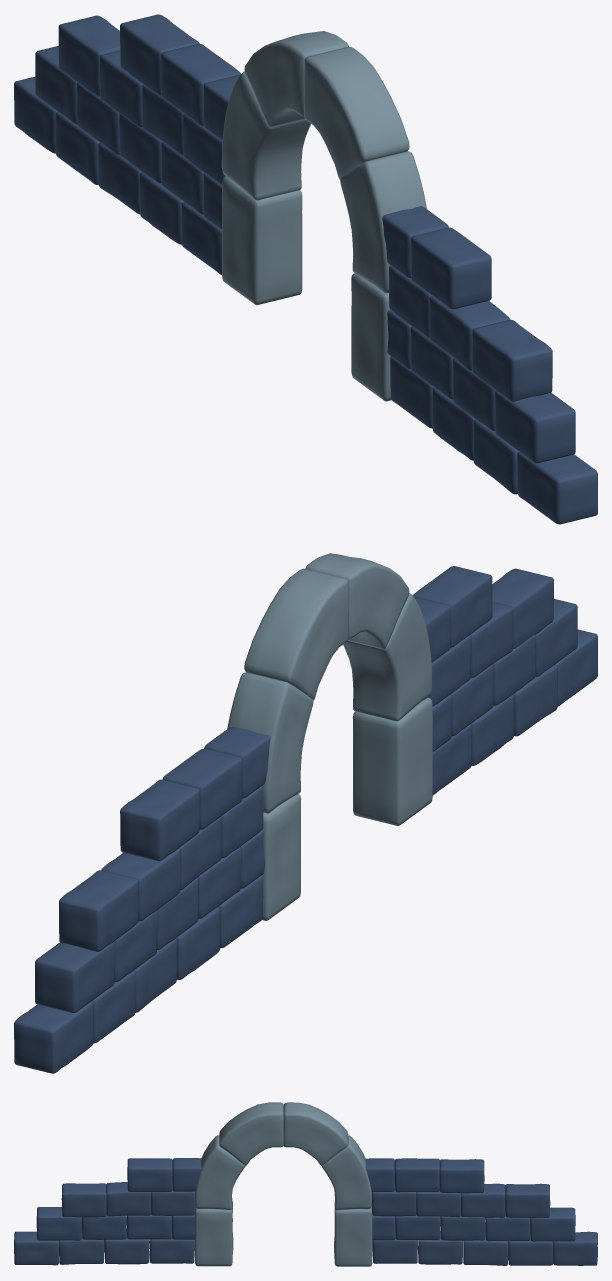
File: arc-1.obj
3 views of the same model, one above another, from view 1: azimuth 30°, elevation 25°; view 2: azimuth 150°, elevation 25°; view 3: azimuth 270°, elevation 25° (orthographic). The views are drawn at different scales.
Parts seen in each view (by area): view 1: Cube.007, Cube.010, Cube.009, Cube.006, Cube.018, Cube.017, Cube.008, Cube.016, Cube.015, Cube.005, Cube.031, Cube.032 (+24 smaller); view 2: Cube.008, Cube.005, Cube.006, Cube.009, Cube.032, Cube.007, Cube.035, Cube.034, Cube.033, Cube.010, Cube.031, Cube.018 (+24 smaller); view 3: Cube.008, Cube.007, Cube.006, Cube.009, Cube.010, Cube.005, Cube.018, Cube.017, Cube.032, Cube.031, Cube.035, Cube.034 (+24 smaller).
Boxes of the visible parts, x1,y1,x2,y2 form: Cube.007: (304,46,409,178); Cube.010: (222,176,302,305); Cube.009: (221,71,310,200); Cube.006: (340,151,426,293); Cube.018: (411,227,491,309); Cube.017: (472,319,552,401); Cube.008: (244,31,348,127); Cube.016: (495,391,575,463); Cube.015: (517,452,597,524); Cube.005: (351,273,391,401); Cube.031: (161,43,240,125); Cube.032: (120,14,199,95); Cube.008: (244,568,348,699); Cube.005: (353,697,432,825); Cube.006: (343,593,432,721); Cube.009: (227,672,313,813); Cube.032: (120,779,199,861); Cube.007: (305,553,409,649); Cube.035: (59,870,138,951); Cube.034: (35,941,114,1012); Cube.033: (14,1001,93,1073); Cube.010: (261,794,301,920); Cube.031: (162,748,242,829); Cube.018: (413,566,492,647); Cube.008: (283,1102,348,1165); Cube.007: (219,1102,283,1165); Cube.006: (195,1135,245,1209); Cube.009: (321,1135,372,1210); Cube.010: (334,1202,372,1266); Cube.005: (194,1201,233,1266); Cube.018: (127,1158,172,1191); Cube.017: (61,1183,106,1217); Cube.032: (439,1159,484,1193); Cube.031: (394,1158,439,1192); Cube.035: (505,1183,550,1217); Cube.034: (530,1207,575,1241).
Bounding box in the file's own units: 0.5636 × 3.06 × 10.53.
